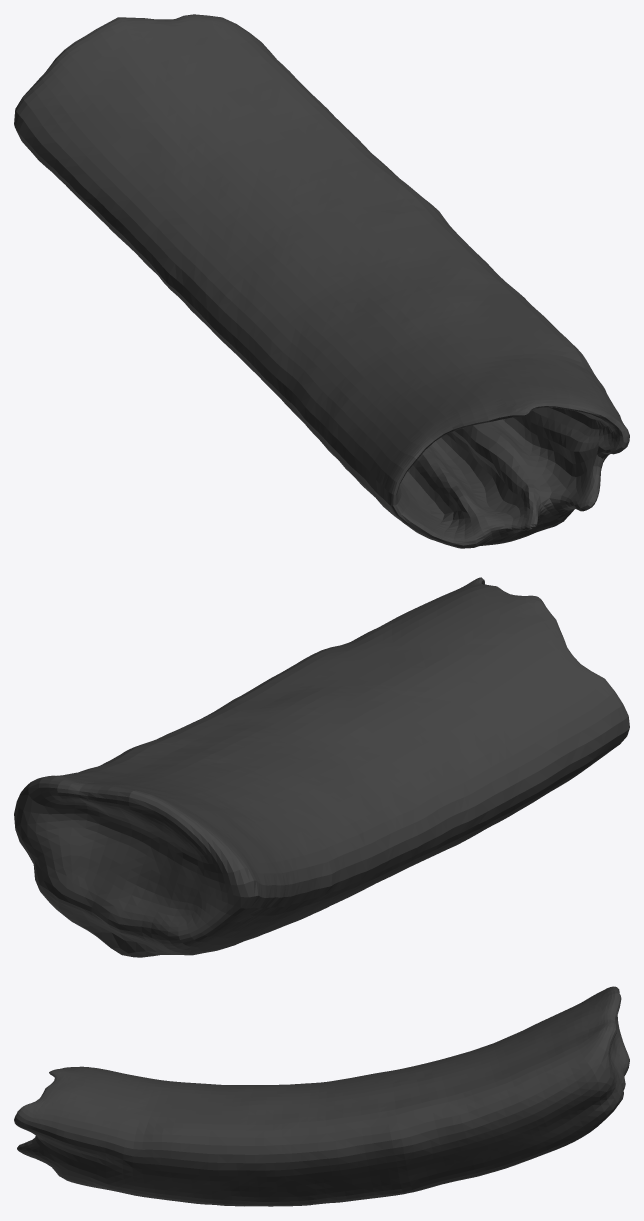
The model's file is tooth_rabbit_106_low.glb.
The picture shows the model from 3 angles, top to bottom: view 1: azimuth 30°, elevation 25°; view 2: azimuth 150°, elevation 25°; view 3: azimuth 270°, elevation 25°; orthographic projection. The views are drawn at different scales.
Parts seen in each view (by area): view 1: tooth_rabbit_106_low; view 2: tooth_rabbit_106_low; view 3: tooth_rabbit_106_low.
Part boxes in pixels (bbox=[...]): tooth_rabbit_106_low: bbox=[14, 14, 629, 548]; tooth_rabbit_106_low: bbox=[14, 577, 629, 957]; tooth_rabbit_106_low: bbox=[14, 986, 629, 1206].
Bounding box in the file's own units: 0.3986 × 0.3632 × 1.07.
Materials: 1 (1 with a texture image).
